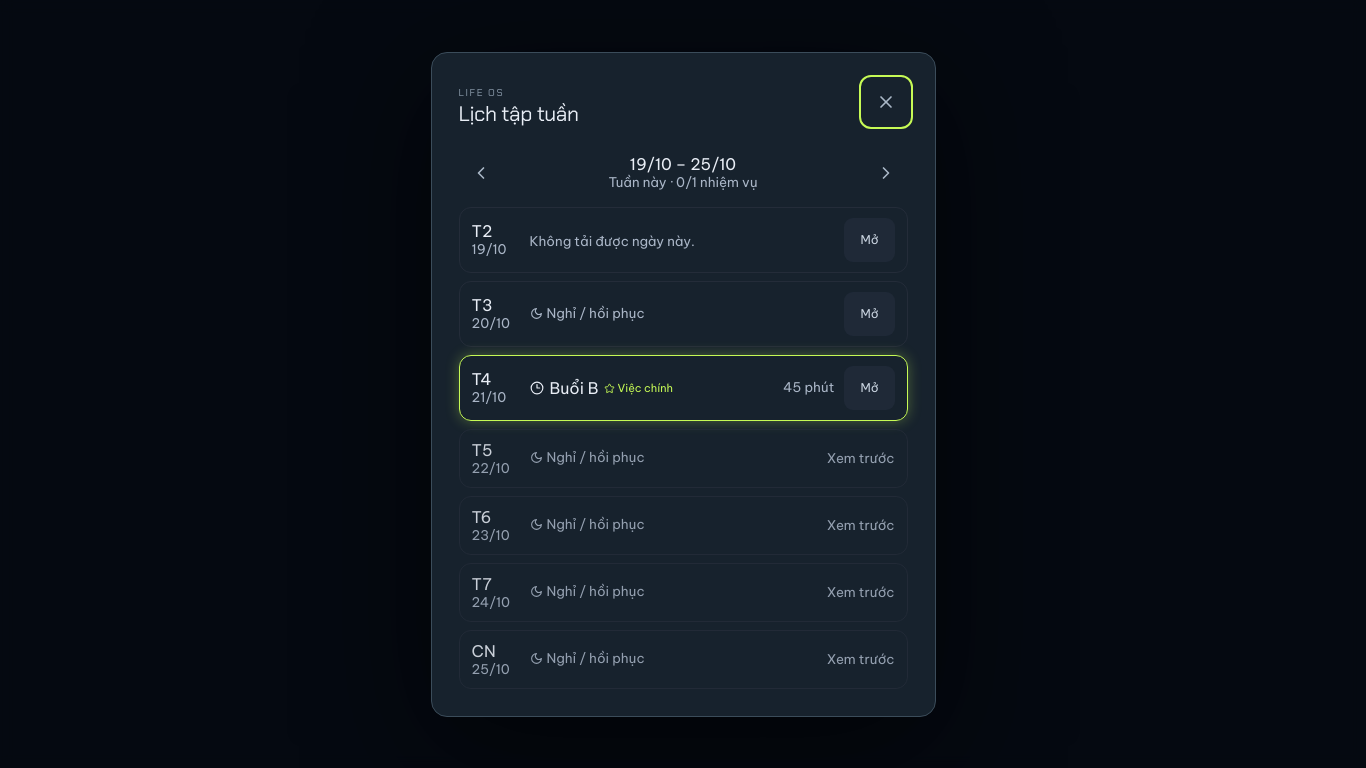
Test: week plan (B-36) › moves between weeks and reports a day that fails to load
The image size is (1366, 768).
Expected: the number of messages is 1, x1=530 y1=232 x2=695 y2=250
Click the button named "Tuần trước" at (480, 172), box x1=458 y1=150 x2=502 y2=194
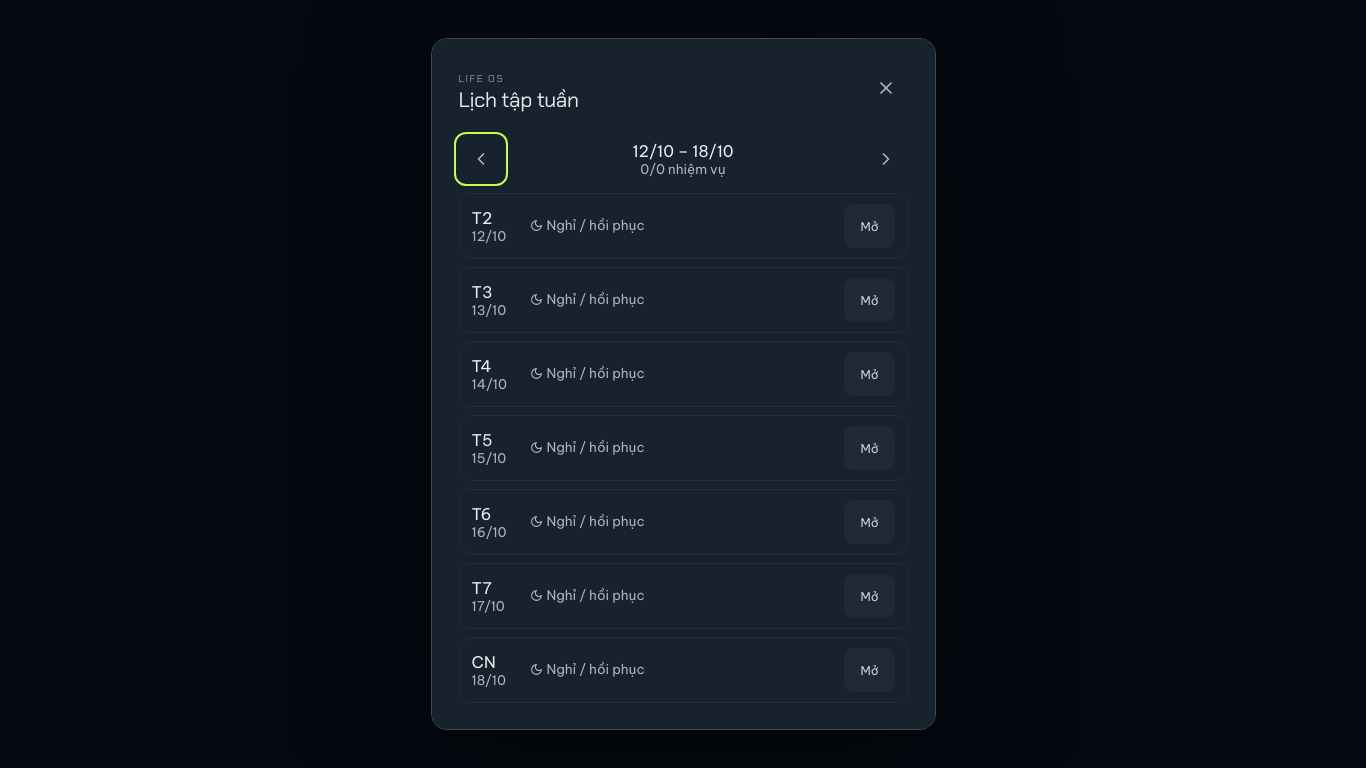
Expected: the list item labelled "T2 12/10" is shown, x1=458 y1=193 x2=908 y2=259
